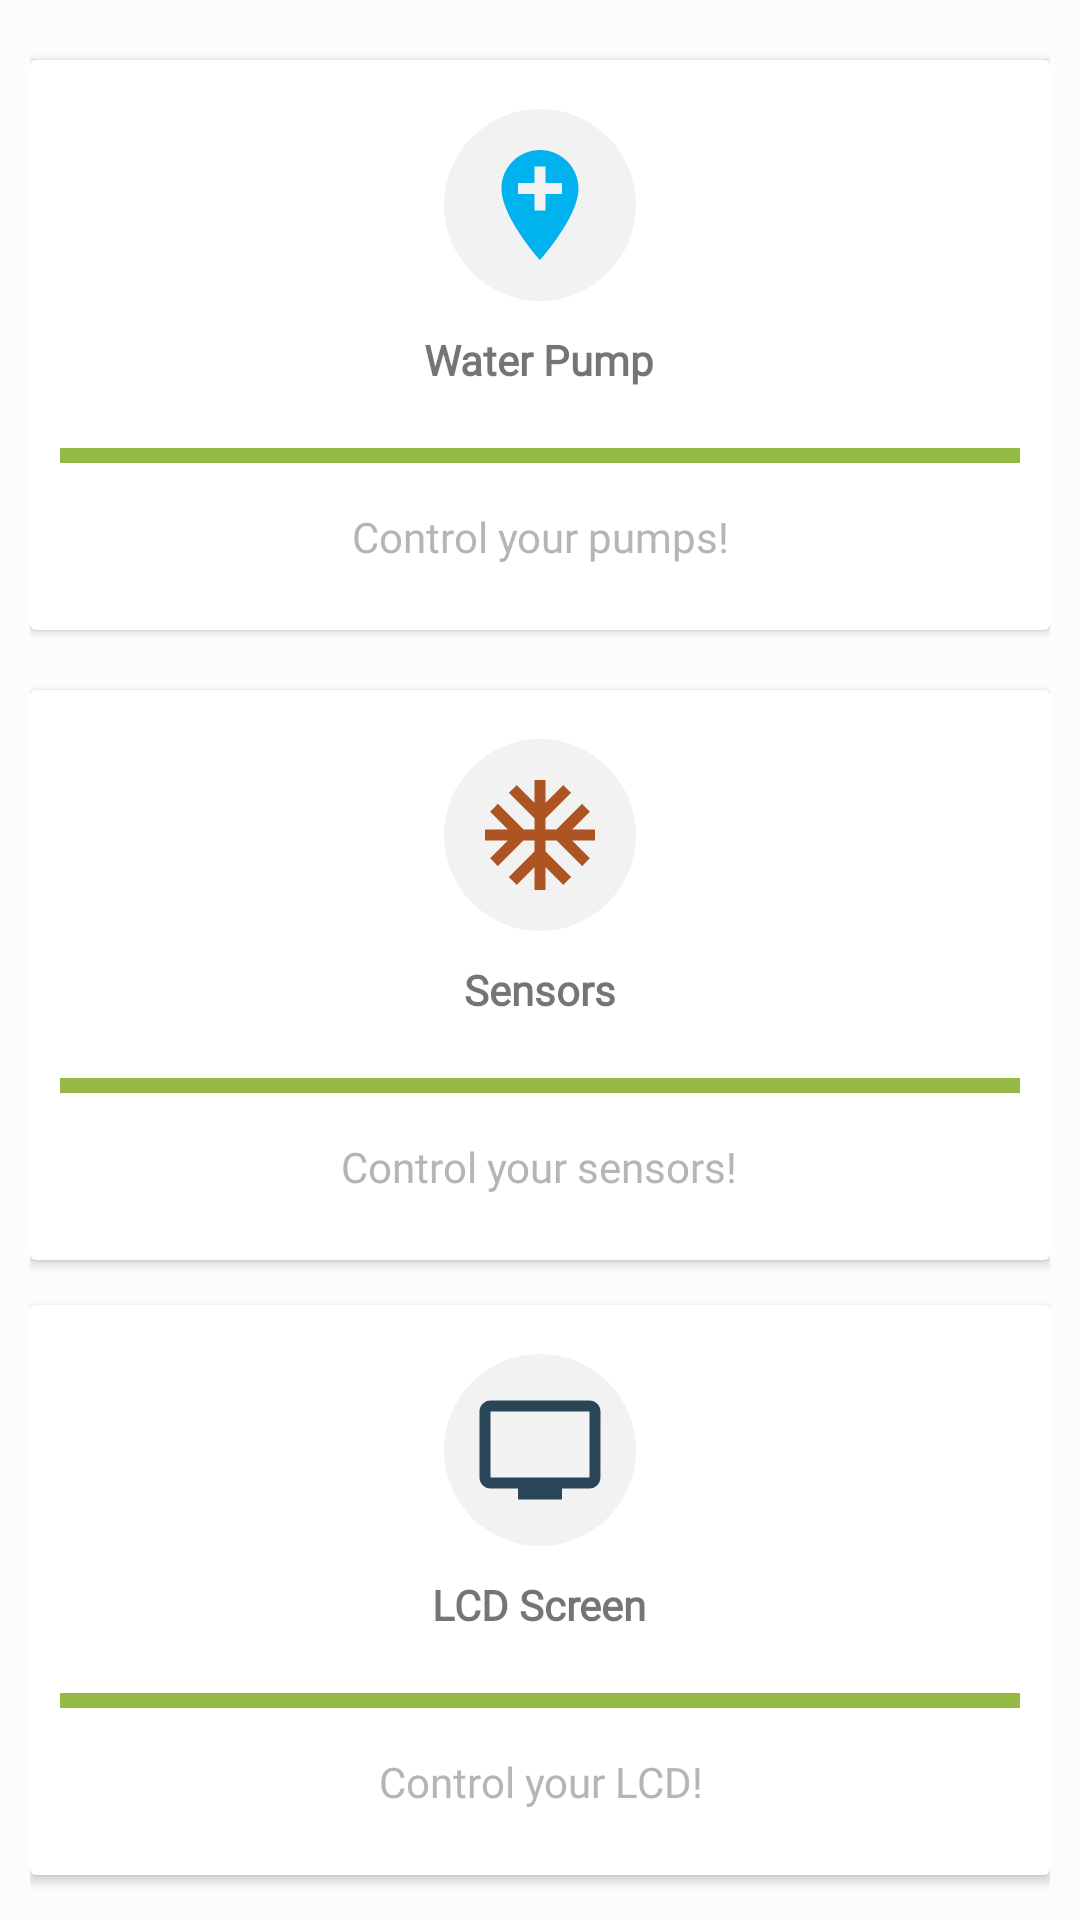

Screen size 1080px x 1920px. Icon name, then its box in pixels as (x1, y1, x2, y2):
ac unit: (444, 739, 636, 931)
add location: (501, 150, 579, 260)
